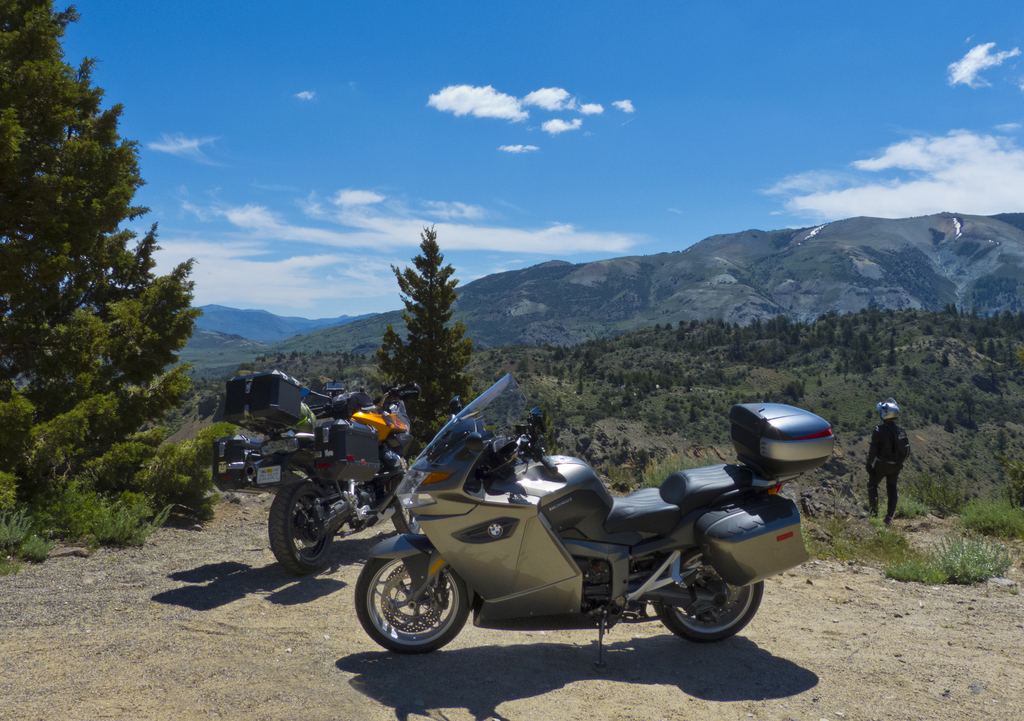Motorcycle: (297, 404, 829, 670), (238, 385, 419, 574)
